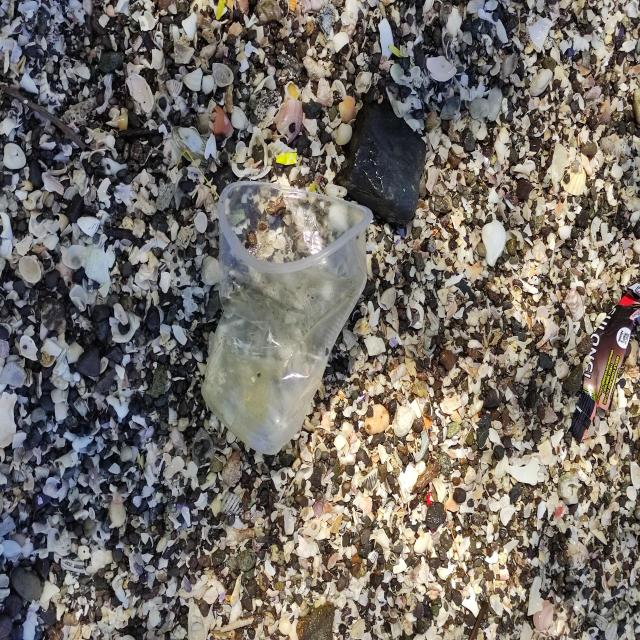plastic_waste: (199, 177, 373, 457), (567, 291, 637, 441)
